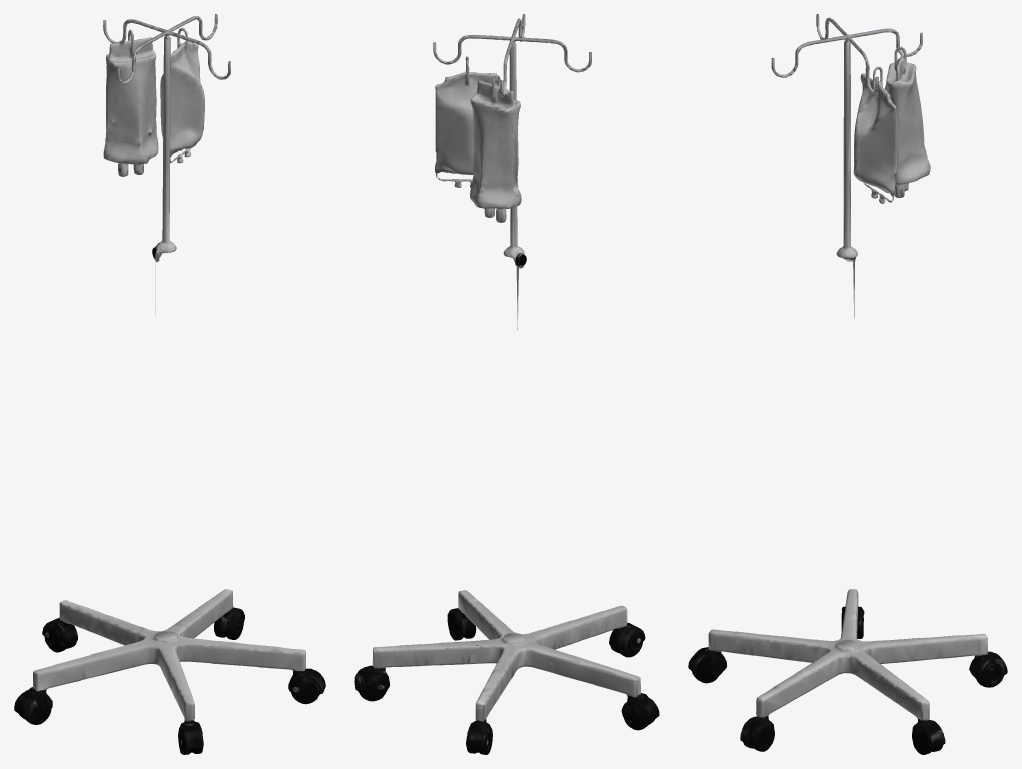
3 renders of one model, left to right at view 1: azimuth 30°, elevation 25°; view 2: azimuth 150°, elevation 25°; view 3: azimuth 270°, elevation 25°, orthographic.
Parts seen in each view (by area): view 1: repaired; view 2: repaired; view 3: repaired.
Boxes of the visible parts, x1,y1,x2,y2 form: repaired: [14, 14, 325, 754]; repaired: [354, 14, 659, 754]; repaired: [688, 14, 1007, 754].
Size of the model in its own units: 0.4187 by 0.9995 by 0.4342.
Materials: 1 (1 with a texture image).
